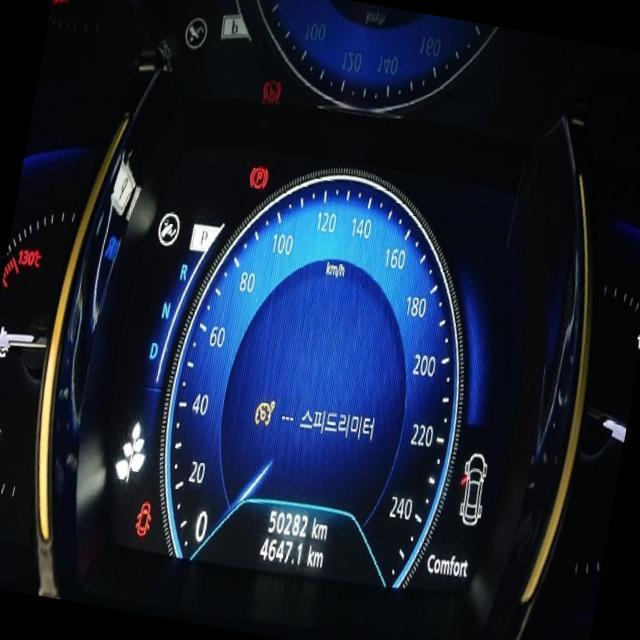Doors: (132, 496, 152, 536)
